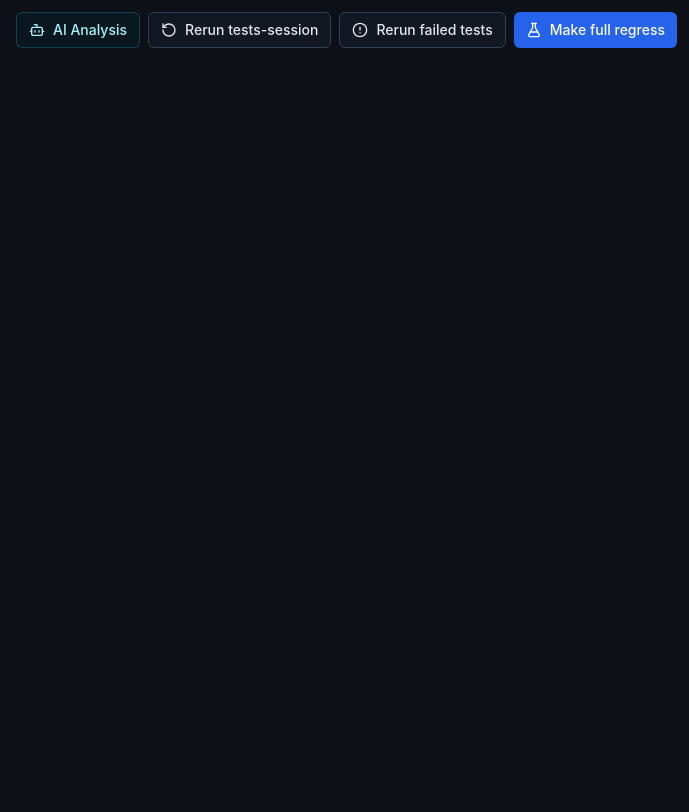
Test: SessionActions › queues every test in the current session
Click the button "Rerun tests-session". click: (240, 30)
box: [148,12,331,48]
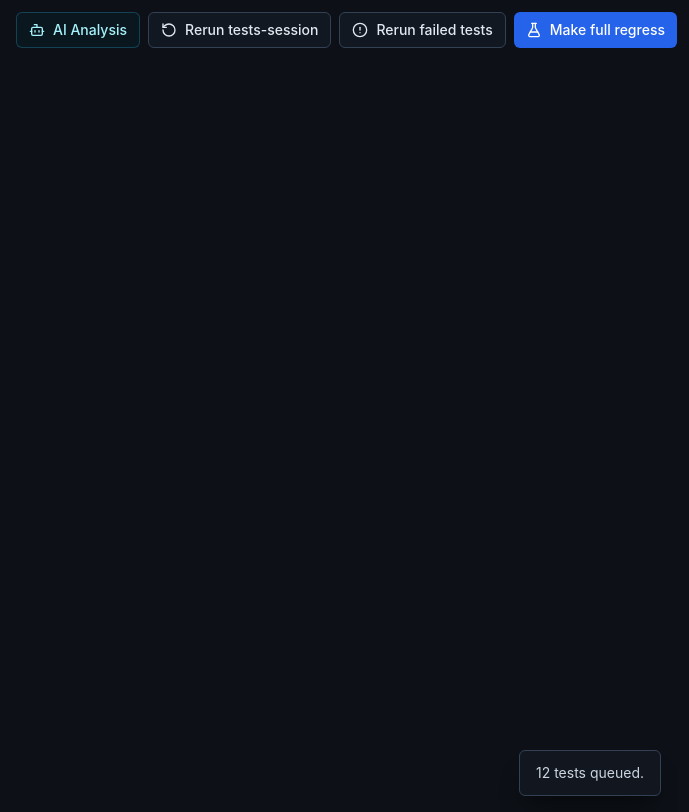
Expected: the message reads "12 tests queued.", [536,764,644,781]
